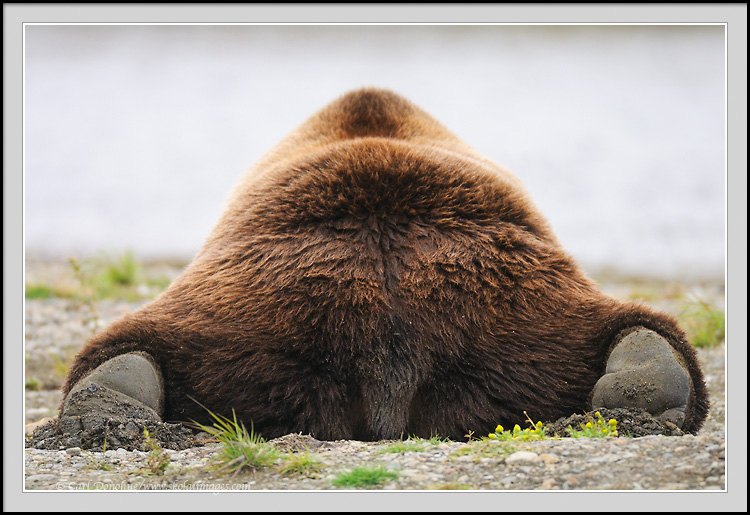bear: (58, 87, 714, 453)
